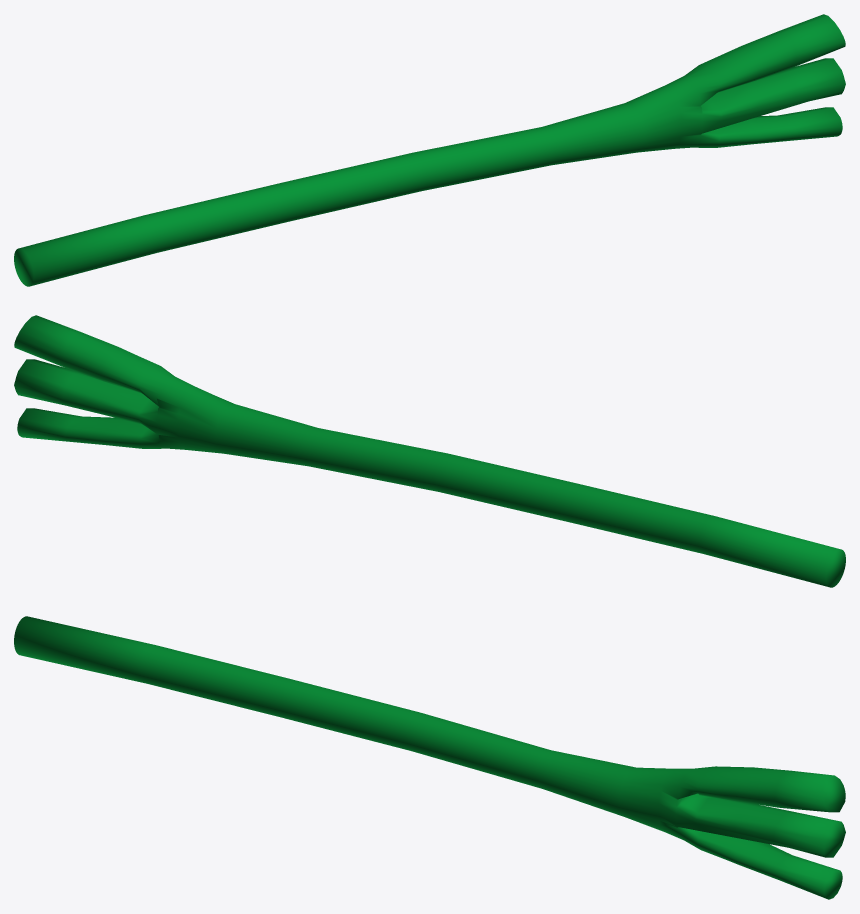
3 renders of one model, top to bottom at view 1: azimuth 30°, elevation 25°; view 2: azimuth 150°, elevation 25°; view 3: azimuth 330°, elevation 25°, orthographic.
Parts seen in each view (by area): view 1: 円柱; view 2: 円柱; view 3: 円柱.
Part boxes in pixels (x1,y1,x2,y2): 円柱: (14, 14, 845, 286); 円柱: (14, 315, 845, 587); 円柱: (14, 616, 845, 899).
Bounding box in the file's own units: 5.03 × 0.7071 × 0.2811.
